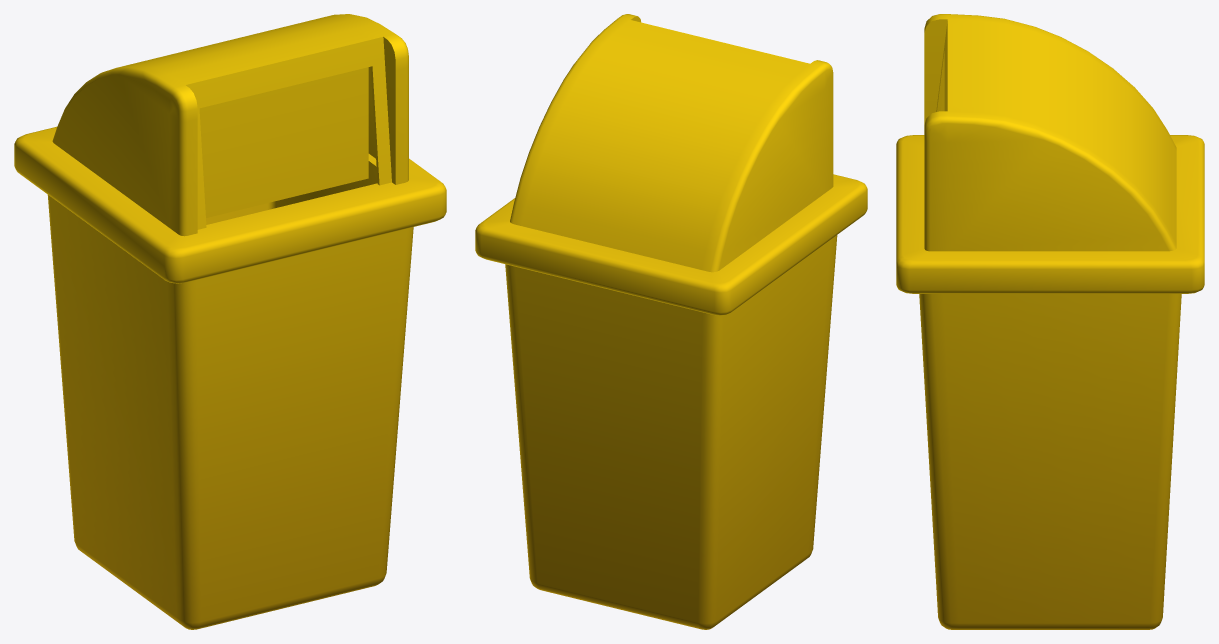
The model's file is trash_bin_c_yellow.glb.
The picture shows the model from 3 angles, left to right: view 1: azimuth 30°, elevation 25°; view 2: azimuth 150°, elevation 25°; view 3: azimuth 270°, elevation 25°; orthographic projection. The views are drawn at different scales.
Parts seen in each view (by area): view 1: trash_bin_c_yellow; view 2: trash_bin_c_yellow; view 3: trash_bin_c_yellow.
Part boxes in pixels (x1,y1,x2,y2): trash_bin_c_yellow: (14,14,446,629); trash_bin_c_yellow: (475,14,867,629); trash_bin_c_yellow: (896,14,1204,629).
Bounding box in the file's own units: 0.4111 × 0.7667 × 0.4111.
1 material, 1 textured.
